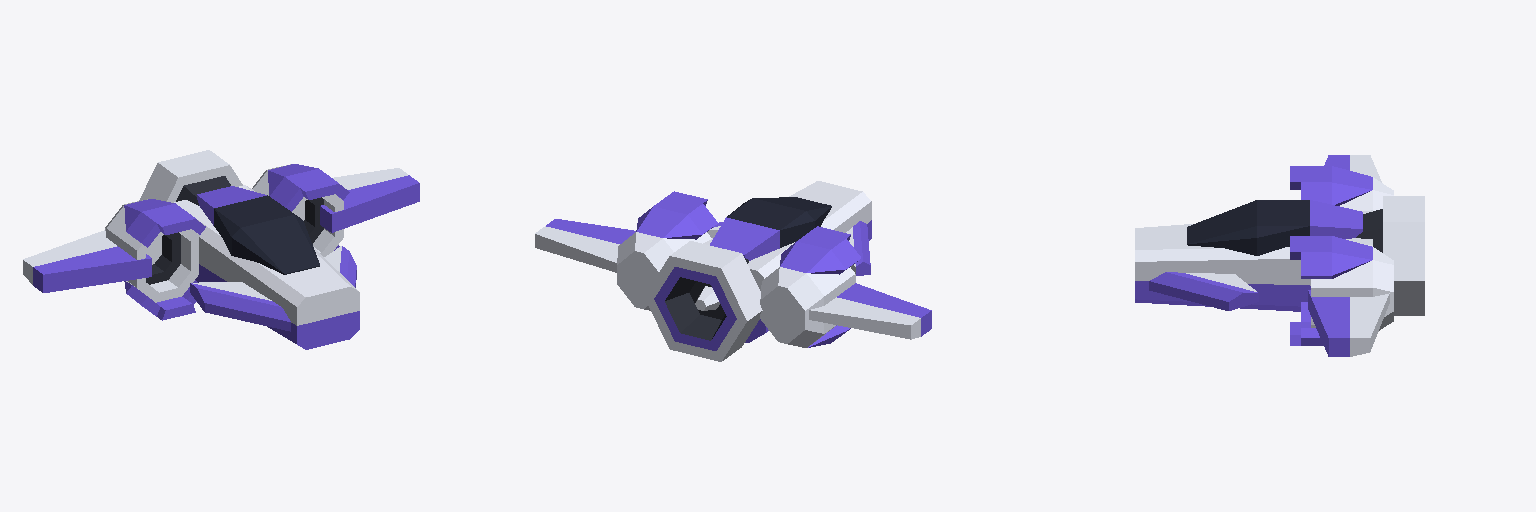
Rendered from player_ship.obj.
3 views of the same model, side by side, from view 1: azimuth 30°, elevation 25°; view 2: azimuth 150°, elevation 25°; view 3: azimuth 270°, elevation 25° (orthographic).
Visible parts, largest first — view 1: mergedBlocks; view 2: mergedBlocks; view 3: mergedBlocks.
Part boxes in pixels (left/top/right/bottom): mergedBlocks: left=23, top=150, right=419, bottom=349; mergedBlocks: left=535, top=181, right=931, bottom=361; mergedBlocks: left=1135, top=155, right=1424, bottom=356.
Bounding box in the file's own units: 4.2 × 1 × 2.8.